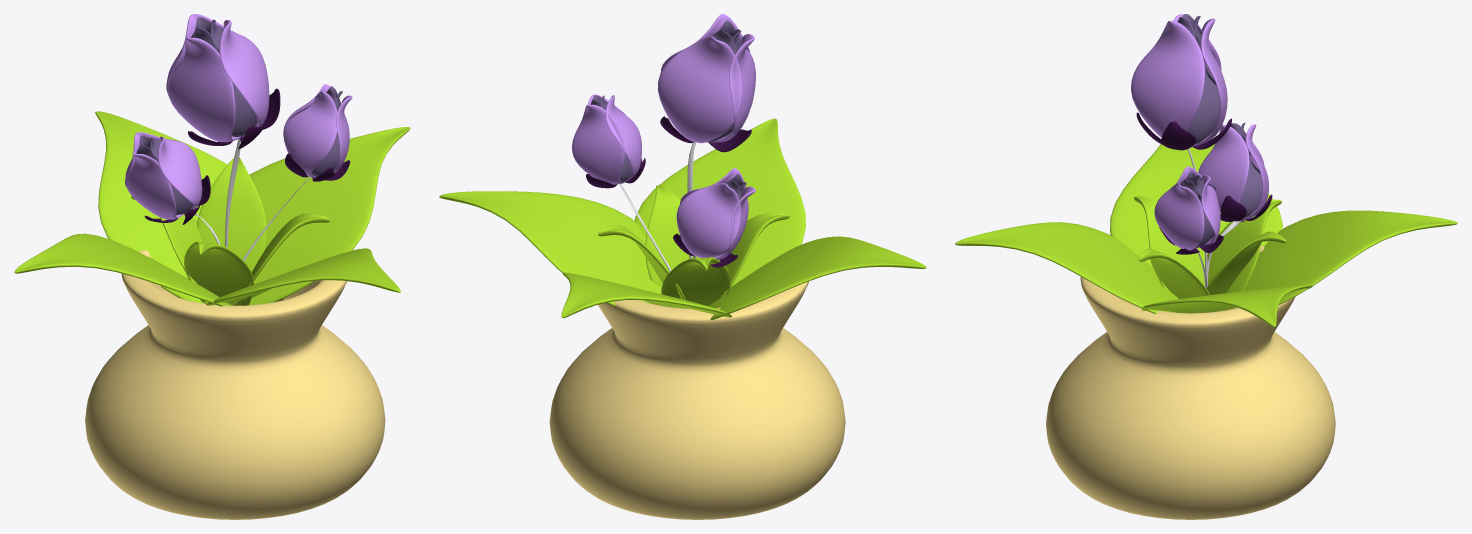
Rendered from plant vera1.fbx.
3 views of the same model, side by side, from view 1: azimuth 30°, elevation 25°; view 2: azimuth 150°, elevation 25°; view 3: azimuth 270°, elevation 25° (orthographic). The views are drawn at different scales.
Visible parts, largest first — view 1: Circle, Plane.016, Plane.002, Plane.022, Plane.003, Plane.035, Plane.036, Plane.006, Plane.023, Plane.048, Plane.001, Plane.043 (+1 smaller); view 2: Circle, Plane.016, Plane.001, Plane.034, Plane.021, Plane.002, Plane.022, Plane.035; view 3: Circle, Plane.016, Plane.003, Plane.036, Plane.023, Plane.004, Plane.001, Plane.021, Plane.037, Plane.012, Plane.034.
Boxes of the visible parts, x1,y1,x2,y2 form: Circle: [85, 250, 385, 519]; Plane.016: [14, 111, 410, 306]; Plane.002: [167, 35, 240, 141]; Plane.022: [283, 91, 338, 177]; Plane.003: [219, 20, 269, 136]; Plane.035: [125, 151, 183, 219]; Plane.036: [158, 136, 202, 211]; Plane.006: [232, 82, 257, 137]; Plane.023: [314, 95, 352, 177]; Plane.048: [225, 138, 240, 247]; Plane.001: [166, 14, 236, 93]; Plane.043: [144, 175, 210, 224]; Circle: [549, 281, 845, 519]; Plane.016: [439, 118, 926, 320]; Plane.001: [657, 36, 742, 143]; Plane.034: [676, 183, 740, 257]; Plane.021: [572, 104, 624, 184]; Plane.002: [711, 34, 755, 142]; Plane.022: [605, 95, 641, 183]; Plane.035: [713, 186, 755, 259]; Circle: [1046, 246, 1335, 519]; Plane.016: [955, 144, 1457, 327]; Plane.003: [1131, 21, 1204, 137]; Plane.036: [1198, 125, 1249, 220]; Plane.023: [1154, 183, 1204, 250]; Plane.004: [1187, 63, 1220, 144]; Plane.001: [1192, 18, 1227, 146]; Plane.021: [1201, 175, 1220, 245]; Plane.037: [1239, 156, 1262, 217]; Plane.012: [1161, 121, 1196, 150]; Plane.034: [1241, 124, 1268, 220].
Size of the model in its own units: 137 by 136 by 139.
